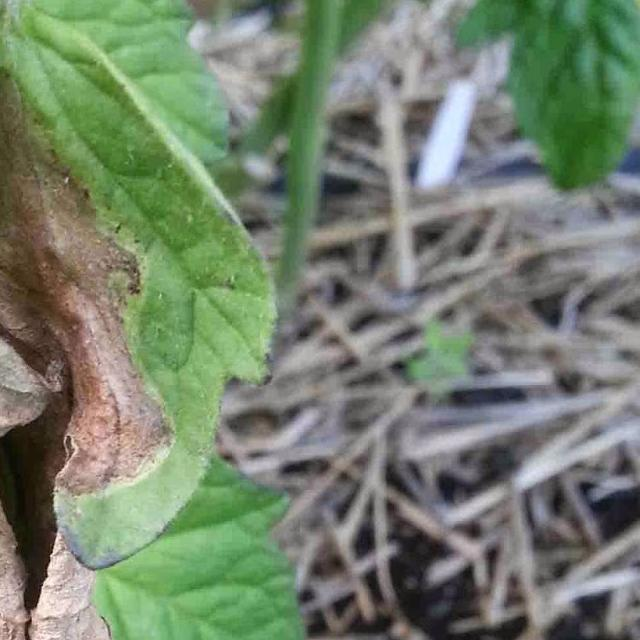Tomato leaf late blight: (0, 0, 270, 640)
